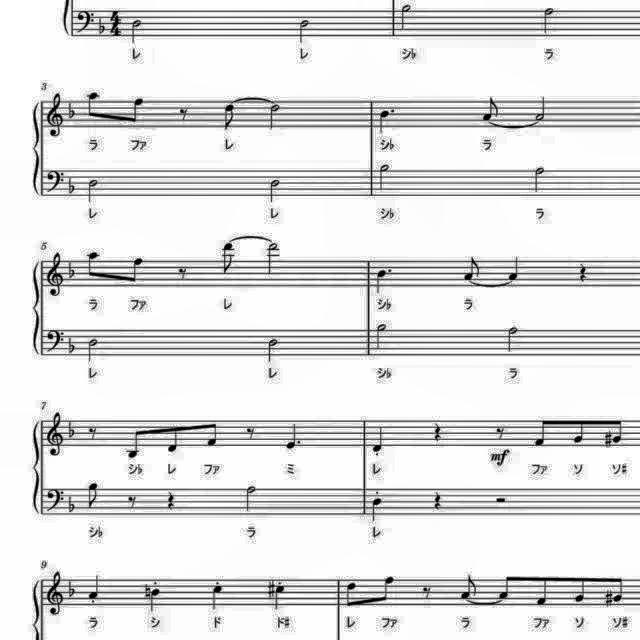Bass-clef: (42, 484, 66, 514), (75, 5, 98, 35), (42, 326, 66, 354), (46, 170, 68, 198)
Bemol: (65, 97, 79, 123), (65, 418, 79, 442), (96, 10, 108, 38), (66, 578, 80, 602), (66, 256, 78, 282), (66, 490, 78, 514), (67, 329, 77, 357), (66, 174, 78, 196)
Diez: (602, 584, 614, 610)
Eighth-note: (123, 93, 149, 127), (123, 426, 147, 462), (124, 255, 148, 289), (534, 572, 556, 608), (533, 414, 555, 450), (456, 573, 482, 603), (162, 418, 182, 456), (376, 573, 398, 607), (84, 87, 106, 121), (478, 94, 504, 122), (460, 253, 484, 283), (218, 240, 238, 276), (85, 248, 106, 282), (494, 570, 516, 602), (218, 100, 238, 132), (343, 578, 363, 610), (202, 418, 222, 450), (568, 417, 588, 448), (570, 571, 588, 605), (612, 572, 630, 606), (85, 480, 104, 512), (611, 416, 629, 448)
Eighth-rest: (491, 420, 509, 444), (175, 104, 193, 125), (173, 264, 191, 284), (125, 491, 141, 512), (86, 422, 102, 442), (418, 583, 434, 603), (242, 422, 258, 442)
Half-note: (264, 239, 284, 277), (540, 2, 560, 38), (376, 160, 396, 194), (532, 165, 552, 199), (264, 334, 284, 366), (502, 324, 522, 356), (395, 2, 415, 34), (372, 322, 392, 354), (294, 16, 314, 46), (534, 91, 554, 121), (266, 175, 286, 205), (266, 102, 286, 132), (240, 482, 258, 514), (85, 175, 103, 205), (130, 16, 146, 46), (86, 336, 102, 364)
Half-rest: (491, 492, 509, 506)
Quarter-dot: (282, 420, 306, 452), (370, 265, 394, 297), (376, 106, 400, 138)
Quarter-note: (208, 581, 228, 613), (502, 255, 522, 285), (87, 572, 105, 604), (371, 424, 389, 456), (146, 586, 164, 614), (272, 584, 290, 612), (369, 497, 386, 525)
Quarter-rest: (428, 486, 446, 512), (163, 486, 180, 512), (574, 260, 590, 286), (429, 419, 445, 445)
Treble-clef: (42, 408, 66, 459), (42, 251, 66, 301), (42, 91, 66, 141), (43, 568, 65, 620)
